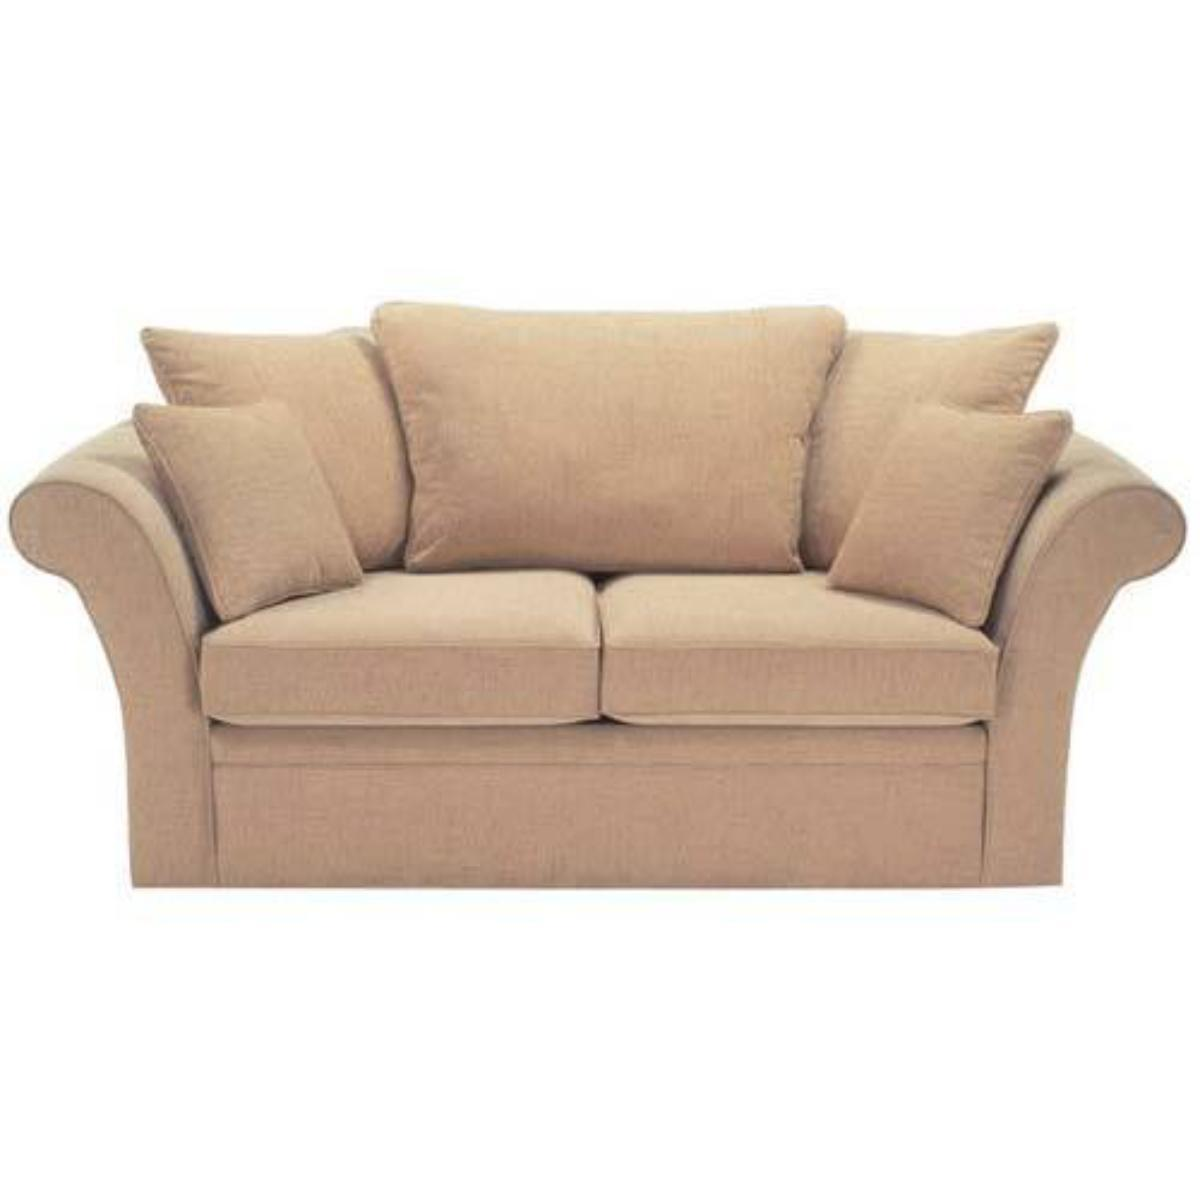Sofa: (4, 302, 1186, 893)
